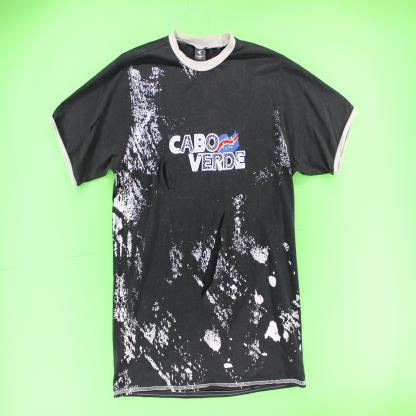hole: (201, 209, 227, 301), (85, 97, 114, 136), (160, 154, 172, 194)
